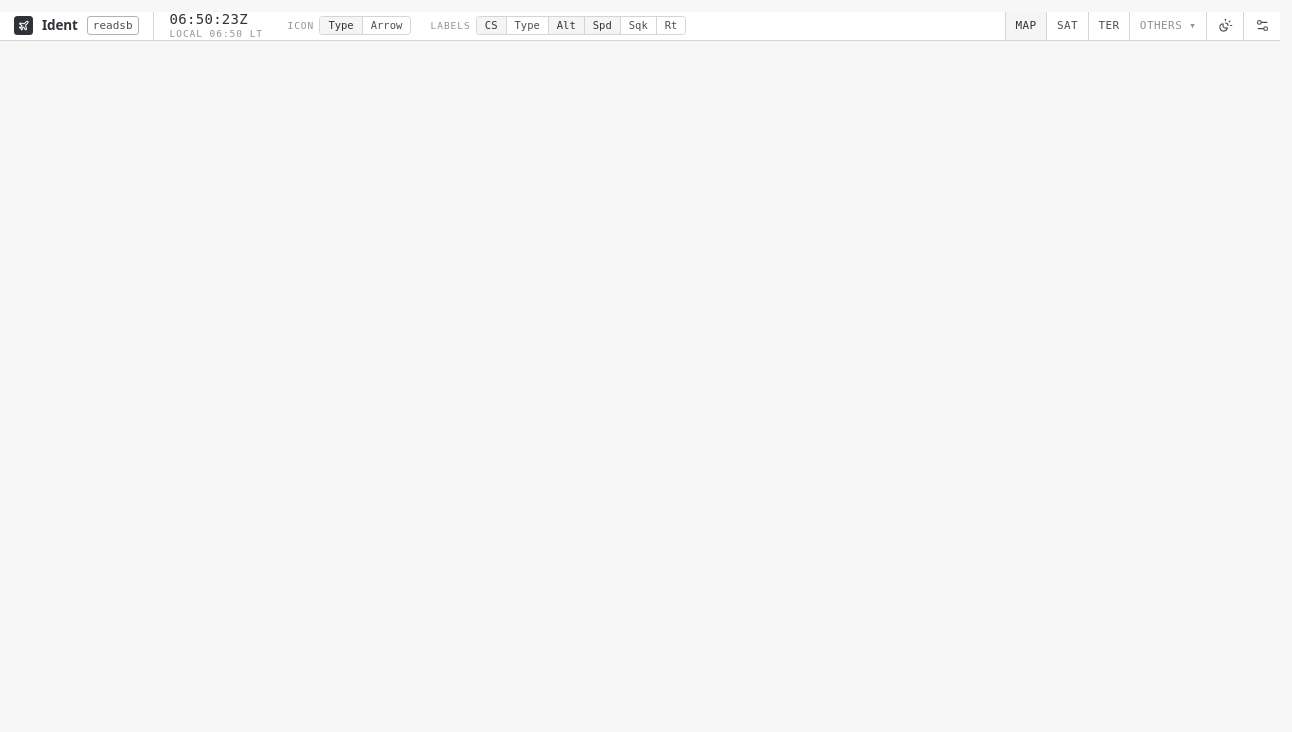
it: Topbar basemap picker › More maps opens a menu and closes on click outside
Click the button "OTHERS ▾".
click(1168, 26)  # box [1130,12,1206,40]
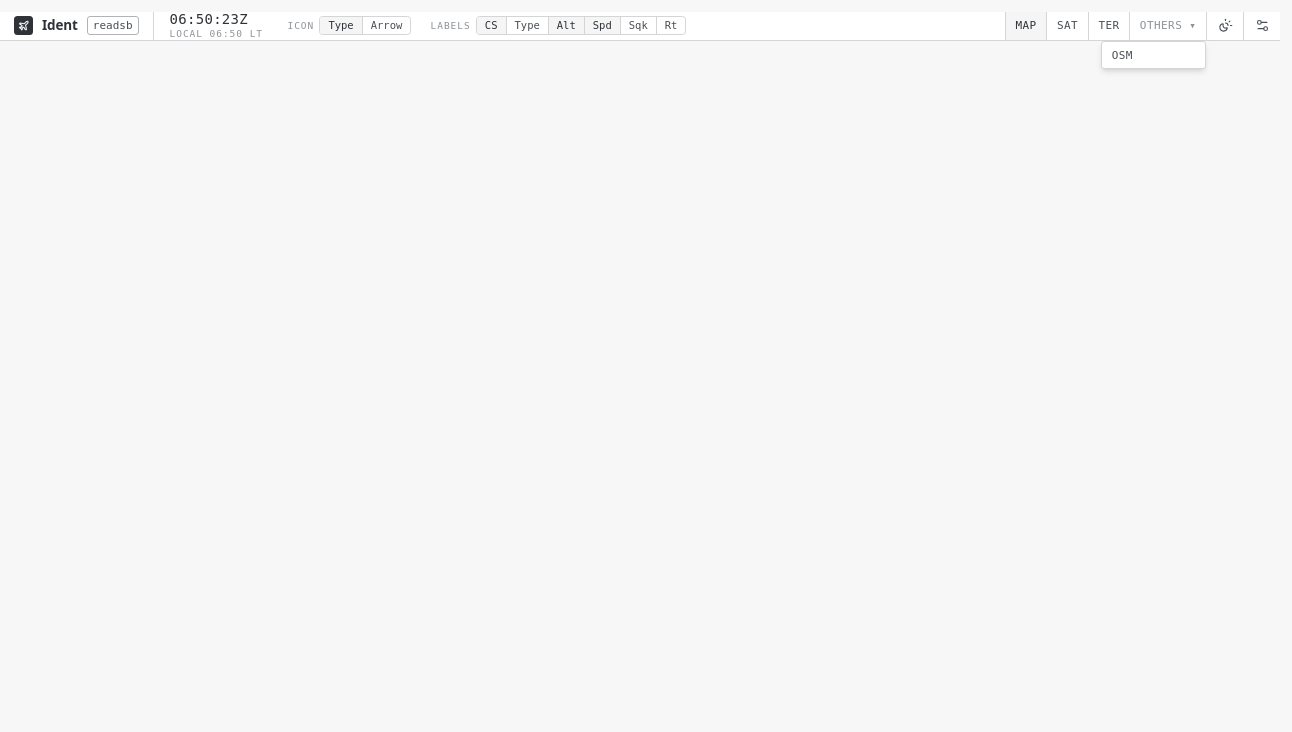
Expected: the menu is shown, [1101,41,1206,69]
Press the mouse on the element that starts with "Ident" at {"x": 640, "y": 372}, box [0,12,1280,731]
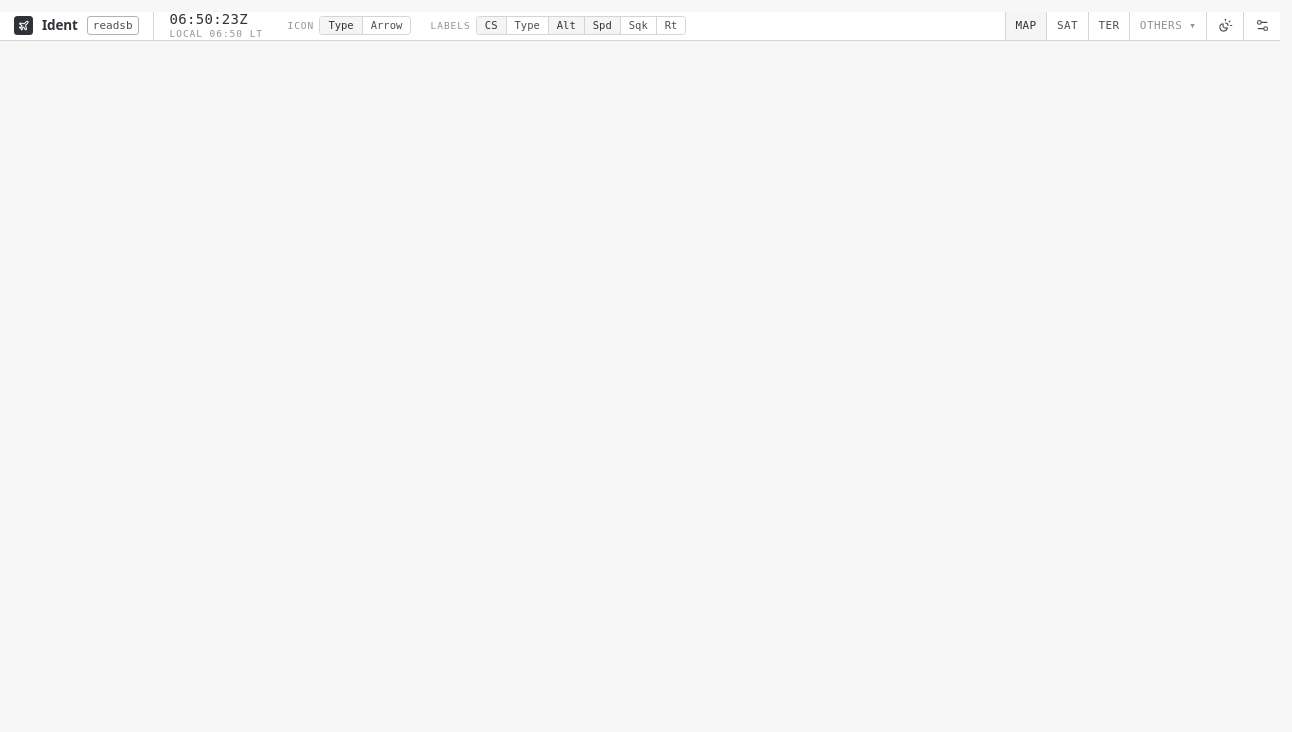
Expected: the menu is gone
